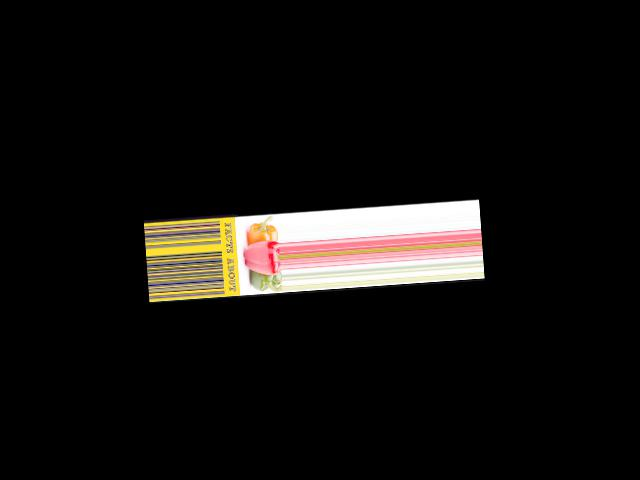bell_pepper: (244, 272, 282, 294)
